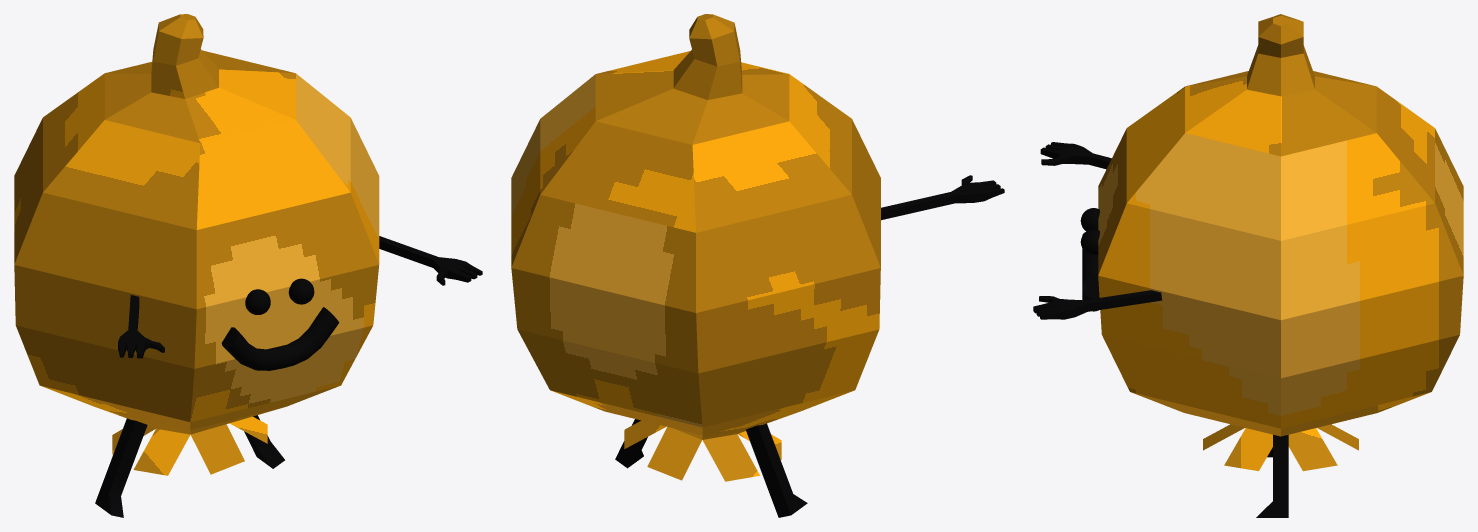
File: CharacterOnionEternal.glb
3 views of the same model, side by side, from view 1: azimuth 30°, elevation 25°; view 2: azimuth 150°, elevation 25°; view 3: azimuth 270°, elevation 25° (orthographic).
Visible parts, largest first — view 1: Mesh_4, Mesh_5, Mesh_3, Mesh_0, Mesh_1, Mesh_2, Mesh_7, Mesh_6; view 2: Mesh_4, Mesh_3, Mesh_1, Mesh_2; view 3: Mesh_4, Mesh_0, Mesh_2, Mesh_1, Mesh_5.
Boxes of the visible parts, x1=… form: Mesh_4: x1=14, y1=14, x2=379, y2=475; Mesh_5: x1=221, y1=307, x2=339, y2=370; Mesh_3: x1=95, y1=418, x2=147, y2=517; Mesh_0: x1=379, y1=236, x2=482, y2=285; Mesh_1: x1=118, y1=295, x2=164, y2=358; Mesh_2: x1=244, y1=415, x2=284, y2=468; Mesh_7: x1=288, y1=278, x2=314, y2=304; Mesh_6: x1=245, y1=289, x2=270, y2=314; Mesh_4: x1=511, y1=14, x2=880, y2=481; Mesh_3: x1=746, y1=423, x2=807, y2=517; Mesh_1: x1=881, y1=175, x2=1004, y2=220; Mesh_2: x1=615, y1=419, x2=647, y2=468; Mesh_4: x1=1098, y1=14, x2=1463, y2=471; Mesh_0: x1=1033, y1=290, x2=1162, y2=319; Mesh_2: x1=1256, y1=434, x2=1288, y2=517; Mesh_1: x1=1040, y1=142, x2=1111, y2=169; Mesh_5: x1=1082, y1=232, x2=1099, y2=311.
Size of the model in its own units: 967 by 1175 by 964.
Materials: 2 (1 with a texture image).
